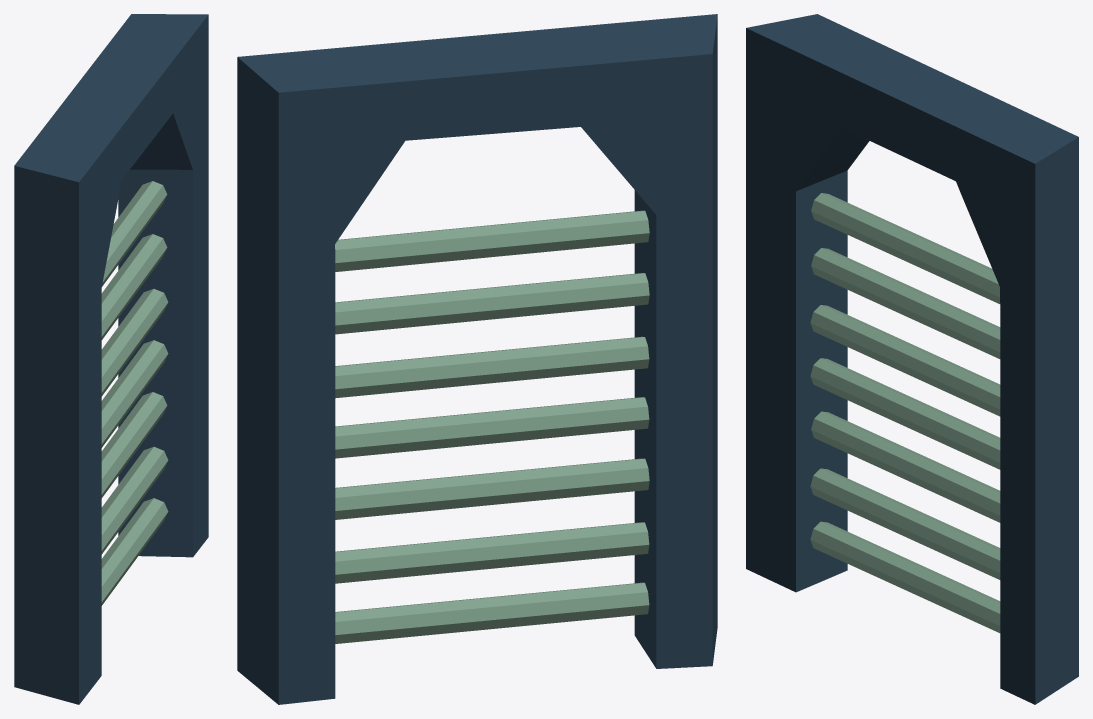
The model's file is laser_door.fbx.
3 renders of one model, left to right at view 1: azimuth 30°, elevation 25°; view 2: azimuth 150°, elevation 25°; view 3: azimuth 270°, elevation 25°, orthographic. The views are drawn at different scales.
Visible parts, largest first — view 1: laser_door; view 2: laser_door; view 3: laser_door.
Part boxes in pixels (box(x1,y1,x2,y2)): laser_door: box(14, 14, 208, 704); laser_door: box(237, 14, 717, 704); laser_door: box(746, 14, 1078, 704).
Size of the model in its own units: 95.87 by 160 by 89.1.
Materials: 1 (1 with a texture image).
